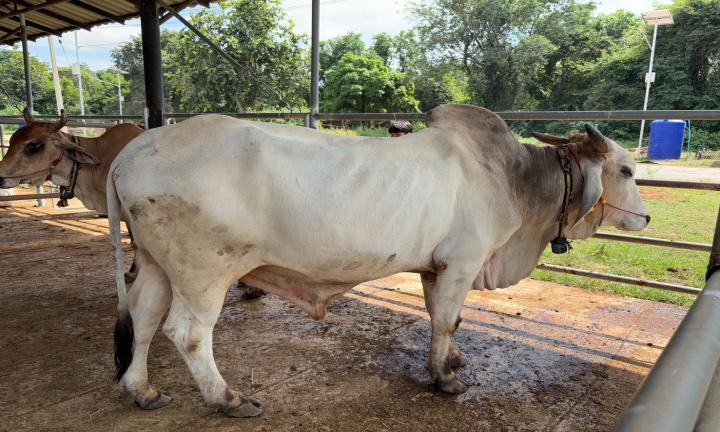Brahman: (107, 104, 648, 415)
